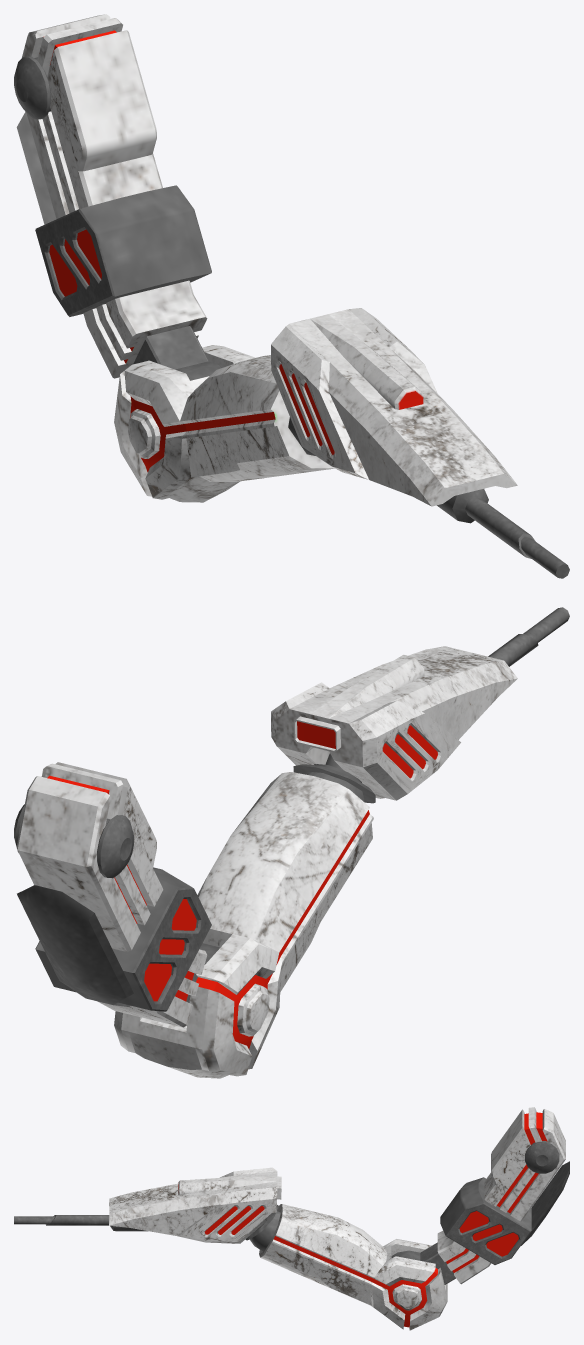
File: beam_arm_ver2.fbx
3 views of the same model, one above another, from view 1: azimuth 30°, elevation 25°; view 2: azimuth 150°, elevation 25°; view 3: azimuth 270°, elevation 25° (orthographic). The views are drawn at different scales.
Parts seen in each view (by area): view 1: ninoude_b, body_b, ude_b, cover_b, nozuru_b, katajiku_b; view 2: ude_b, body_b, ninoude_b, cover_b, katajiku_b, nozuru_b, tekubi_b; view 3: ude_b, body_b, ninoude_b, cover_b, nozuru_b, katajiku_b, tekubi_b.
Boxes of the visible parts, x1,y1,x2,y2 form: ninoude_b: (22,14,221,380); body_b: (271,308,517,506); ude_b: (114,345,334,502); cover_b: (16,112,211,316); nozuru_b: (437,489,569,578); katajiku_b: (14,56,50,119); ude_b: (114,772,373,1078); body_b: (271,646,517,800); ninoude_b: (16,762,220,1027); cover_b: (17,867,211,1011); katajiku_b: (14,804,133,878); nozuru_b: (488,607,569,666); tekubi_b: (293,753,375,803); ude_b: (259,1204,447,1330); body_b: (109,1167,281,1243); ninoude_b: (391,1107,565,1284); cover_b: (440,1161,569,1264); nozuru_b: (14,1215,147,1231); katajiku_b: (525,1141,559,1173); tekubi_b: (245,1205,280,1251).
Bounding box in the file's own units: 89.21 × 262 × 629.
1 material, 1 textured.
